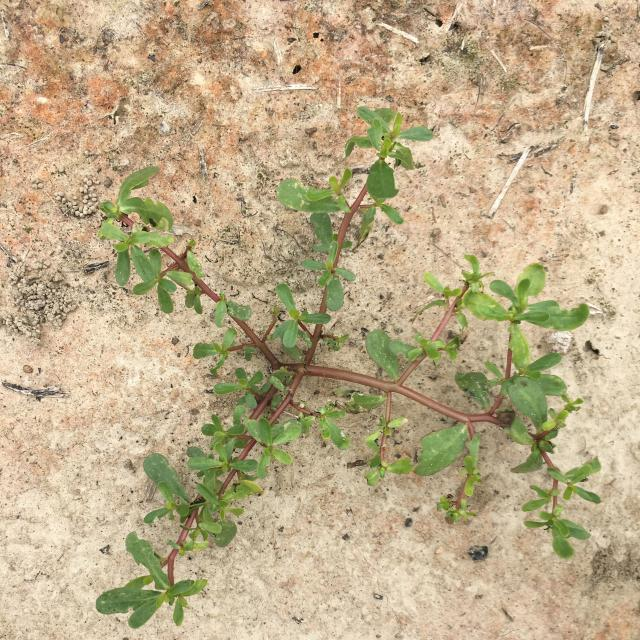Purslane: (94, 106, 603, 630)
